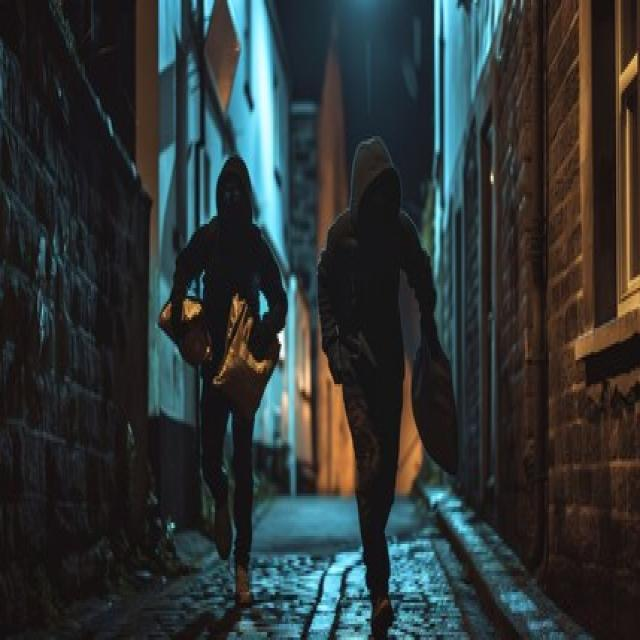person-with-mask: (317, 132, 469, 640), (159, 151, 291, 613)
